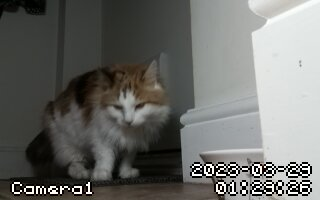clara: (37, 58, 173, 184)
